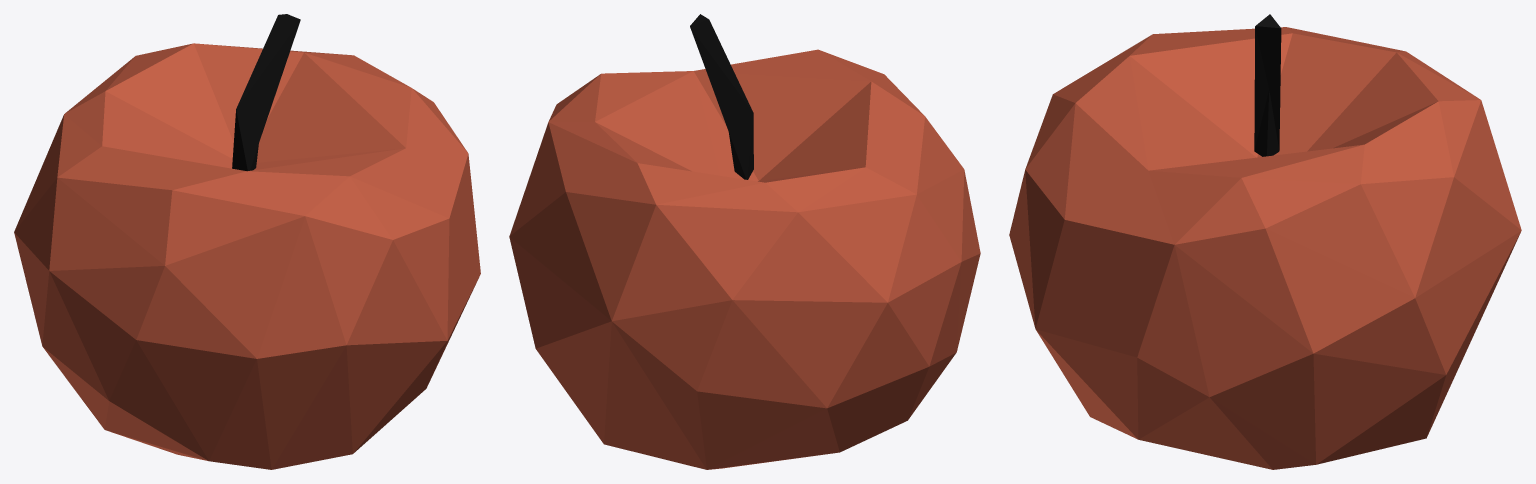
File: Apple.fbx
The picture shows the model from 3 angles, left to right: view 1: azimuth 30°, elevation 25°; view 2: azimuth 150°, elevation 25°; view 3: azimuth 270°, elevation 25°; orthographic projection. The views are drawn at different scales.
Visible parts, largest first — view 1: Apple; view 2: Apple; view 3: Apple.
Boxes of the visible parts, x1=… form: Apple: x1=14, y1=14, x2=480, y2=469; Apple: x1=509, y1=14, x2=980, y2=469; Apple: x1=1009, y1=14, x2=1521, y2=469.
Size of the model in its own units: 190 by 170 by 190.
